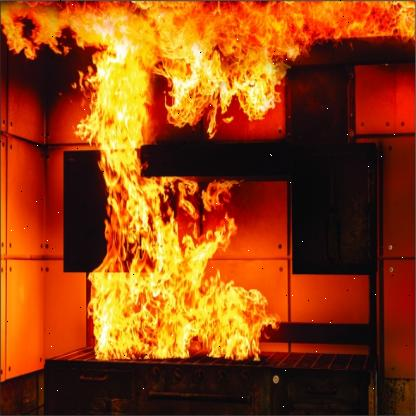fire: (0, 3, 411, 367)
